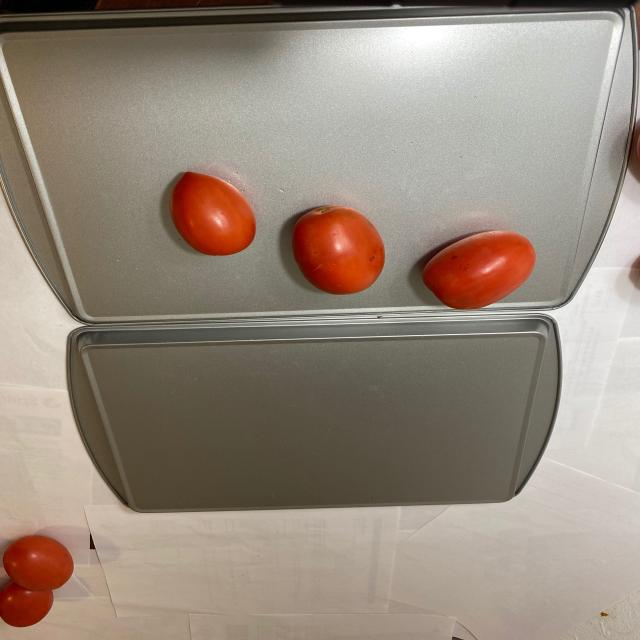tomato: (163, 162, 537, 312), (0, 528, 74, 632)
